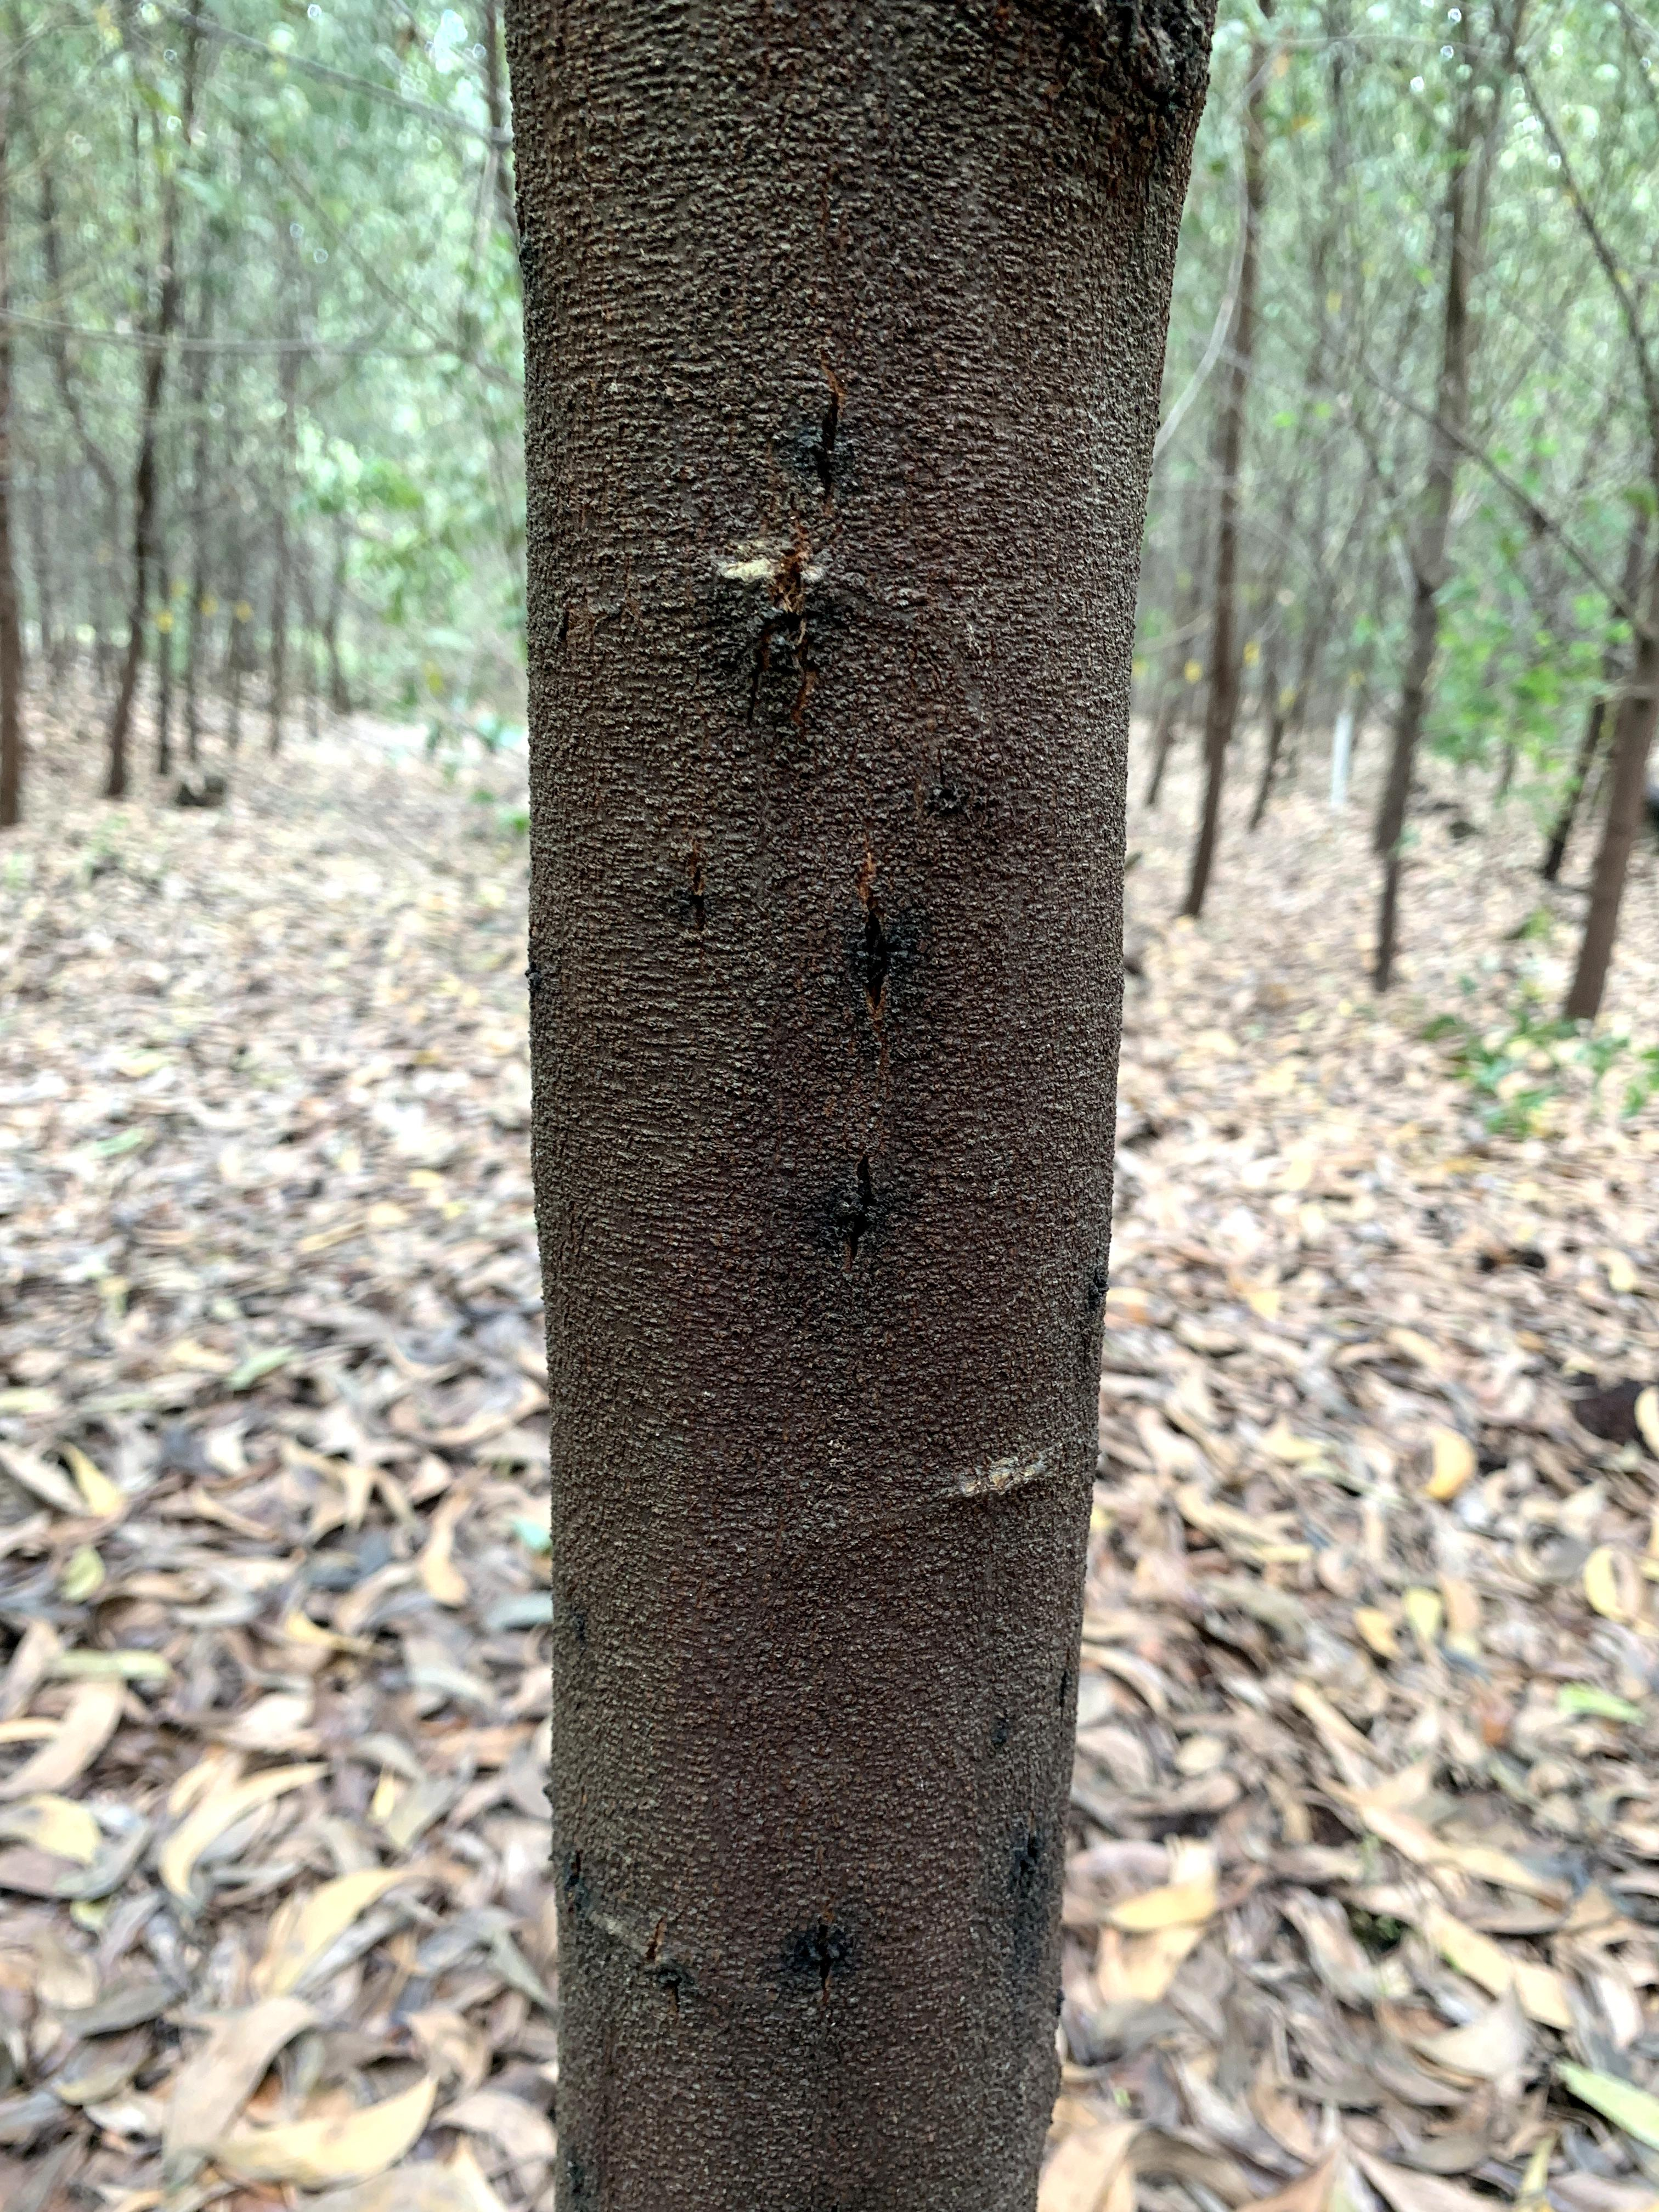Stem Borer: (831, 853, 955, 1049), (737, 1872, 890, 2024), (746, 361, 887, 524), (709, 556, 875, 695), (798, 1122, 915, 1271), (641, 817, 755, 951), (901, 742, 1019, 853), (1002, 1808, 1070, 1975), (1075, 1195, 1117, 1362)
